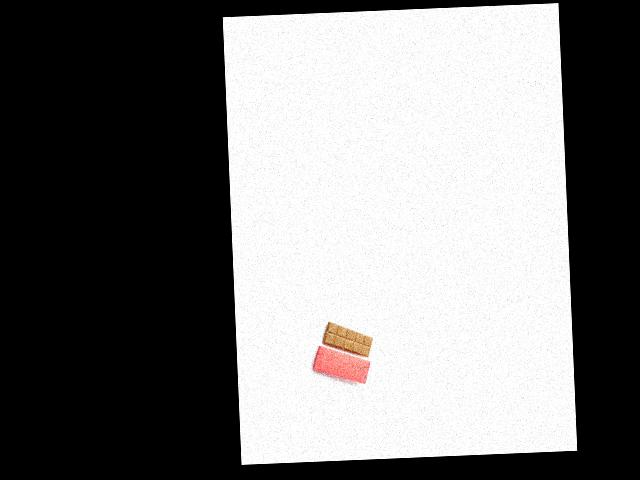chocolate: (319, 319, 374, 361)
